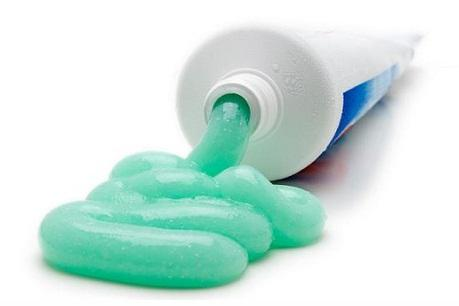toothpaste: (169, 1, 447, 181)
